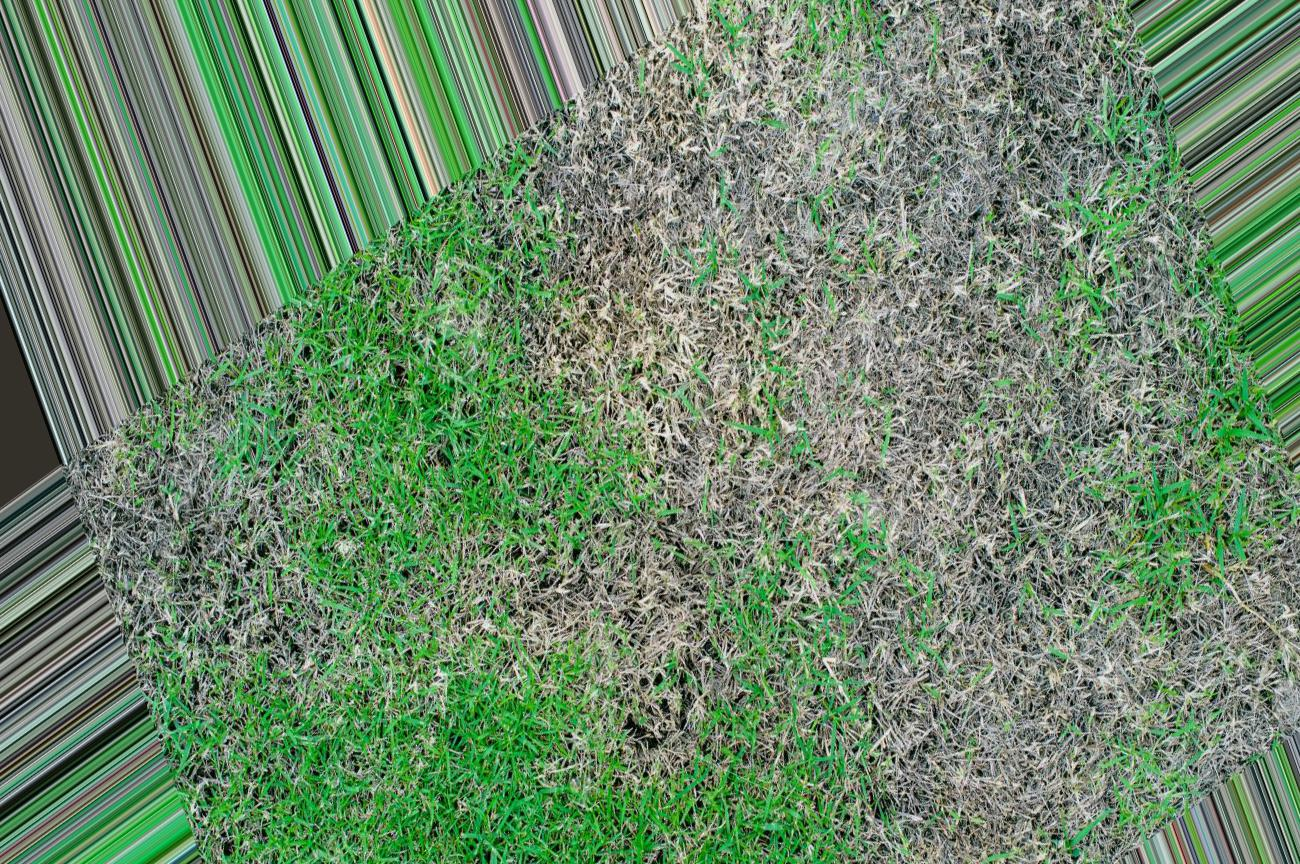patch: (576, 141, 858, 417), (896, 267, 1127, 506), (907, 34, 1104, 219), (927, 542, 1080, 777), (106, 455, 300, 634), (506, 570, 723, 705)
